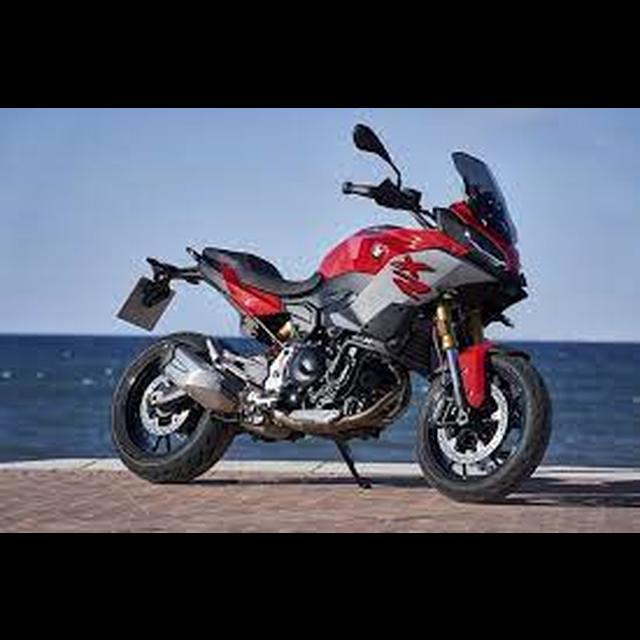motorcycle: (103, 119, 560, 510)
